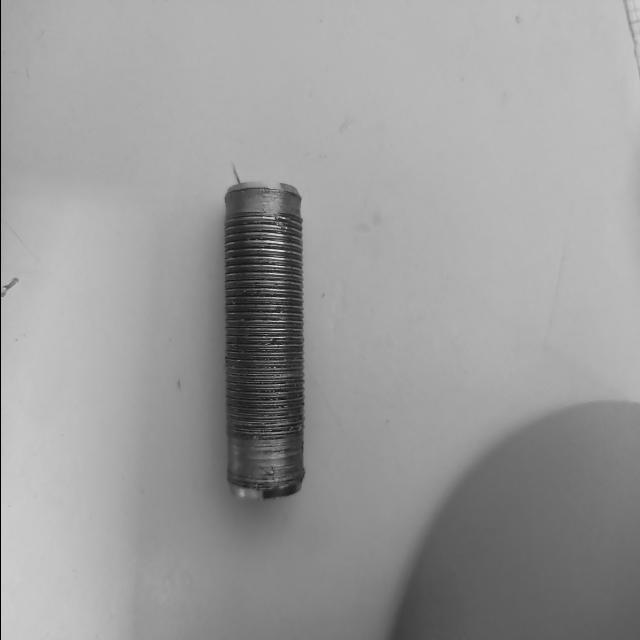Broken: (222, 183, 306, 500)
